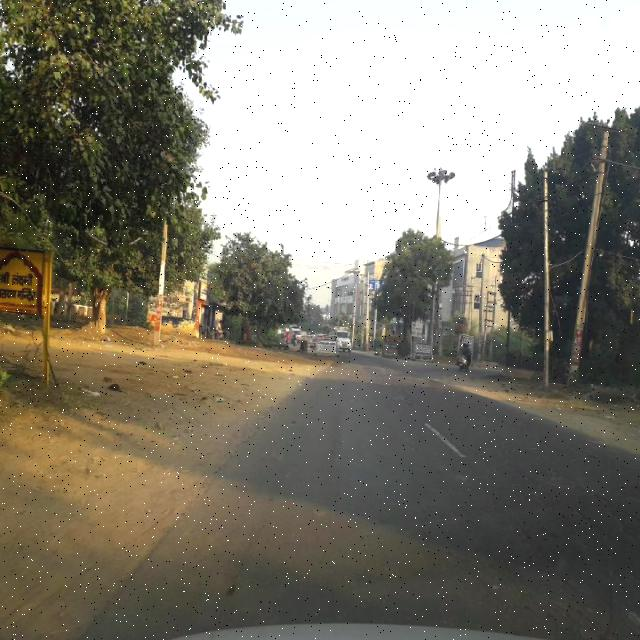D20: (537, 453, 639, 536)
